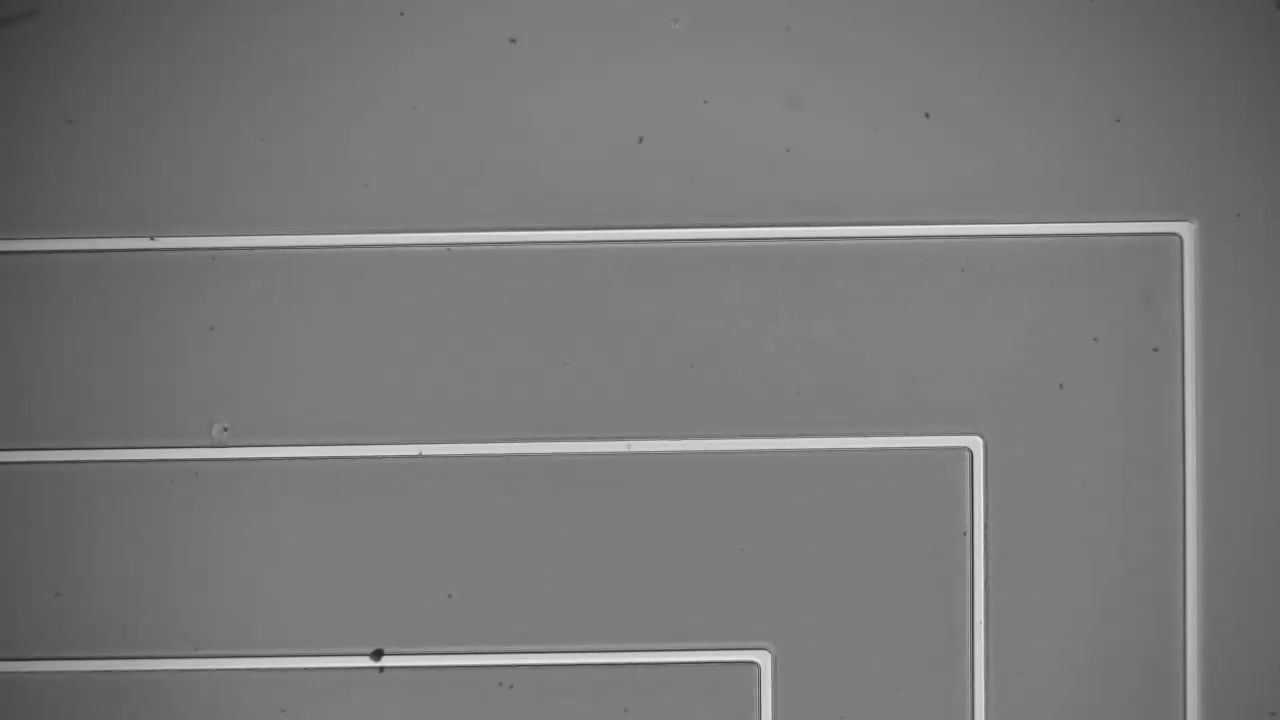stains_enbedded: (364, 641, 397, 672)
